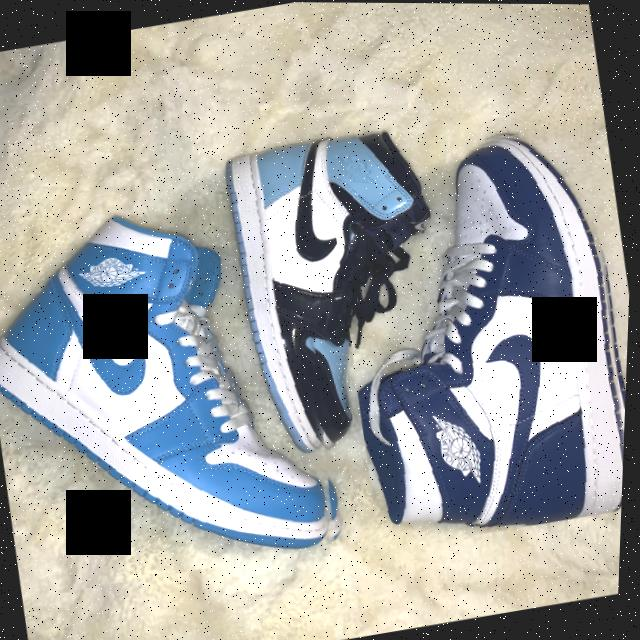shoe: (0, 178, 363, 601), (316, 115, 637, 551), (213, 116, 478, 460)
